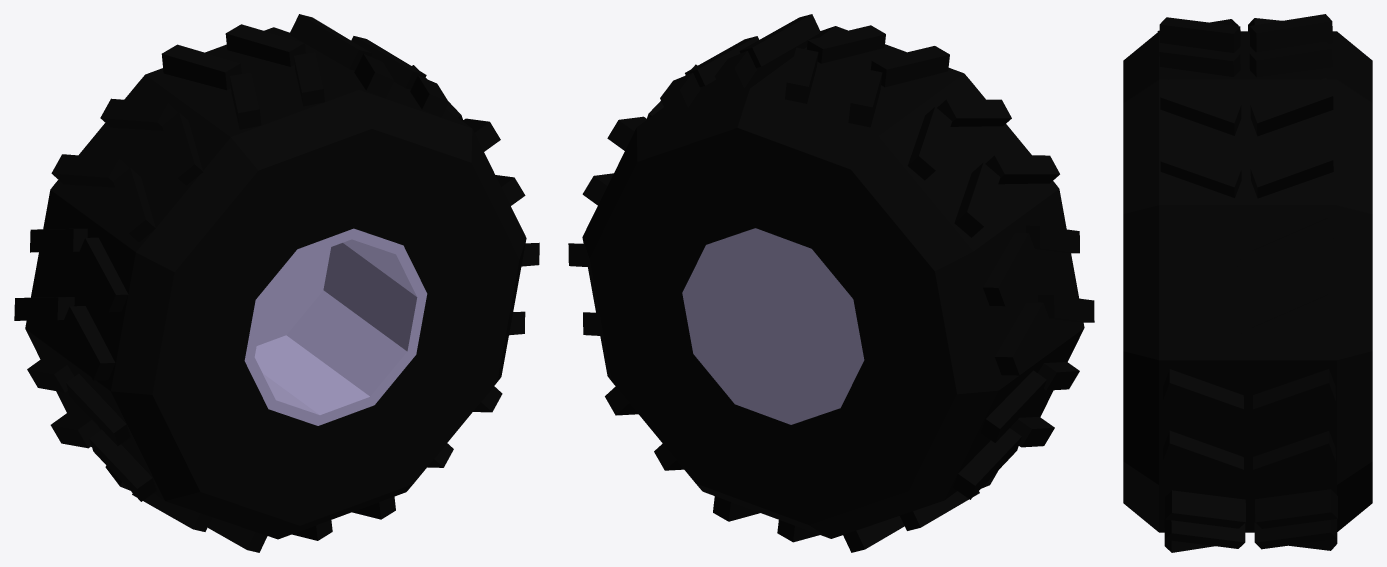
File: TruckWheel.obj
3 renders of one model, left to right at view 1: azimuth 30°, elevation 25°; view 2: azimuth 150°, elevation 25°; view 3: azimuth 270°, elevation 25°, orthographic. The views are drawn at different scales.
Visible parts, largest first — view 1: Monster_Truck_wheel_rear_right; view 2: Monster_Truck_wheel_rear_right; view 3: Monster_Truck_wheel_rear_right.
Part boxes in pixels (x1,y1,x2,y2): Monster_Truck_wheel_rear_right: (14,14,539,552); Monster_Truck_wheel_rear_right: (568,14,1094,552); Monster_Truck_wheel_rear_right: (1123,14,1372,552).
Size of the model in its own units: 1.01 by 0.9902 by 0.4681.
